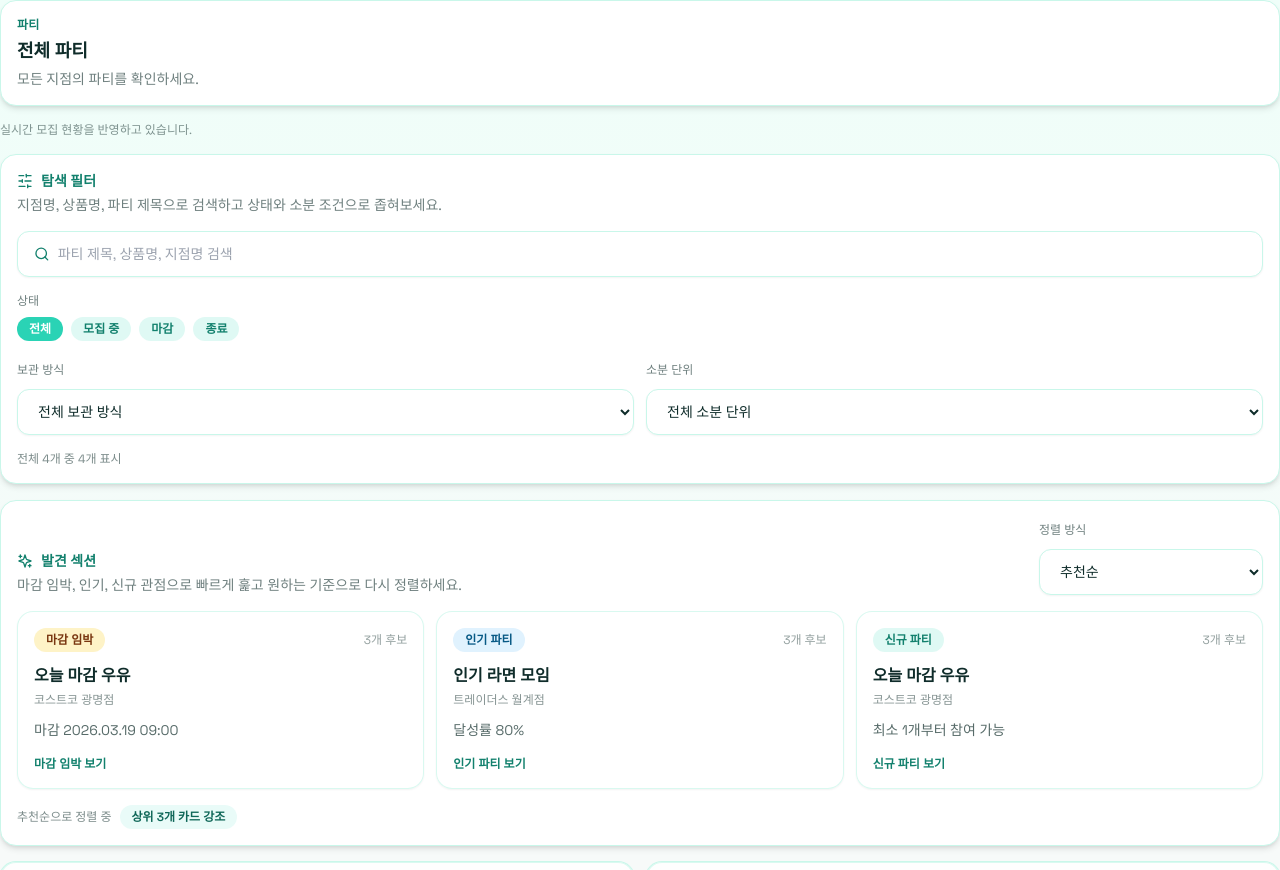
Test: PartyList filters › 발견_섹션에서_정렬을_바꾸면_상위_카드가_강조된다
Click the button "인기 파티" at [489, 640], box [436,611,844,789]
(page scrolled)
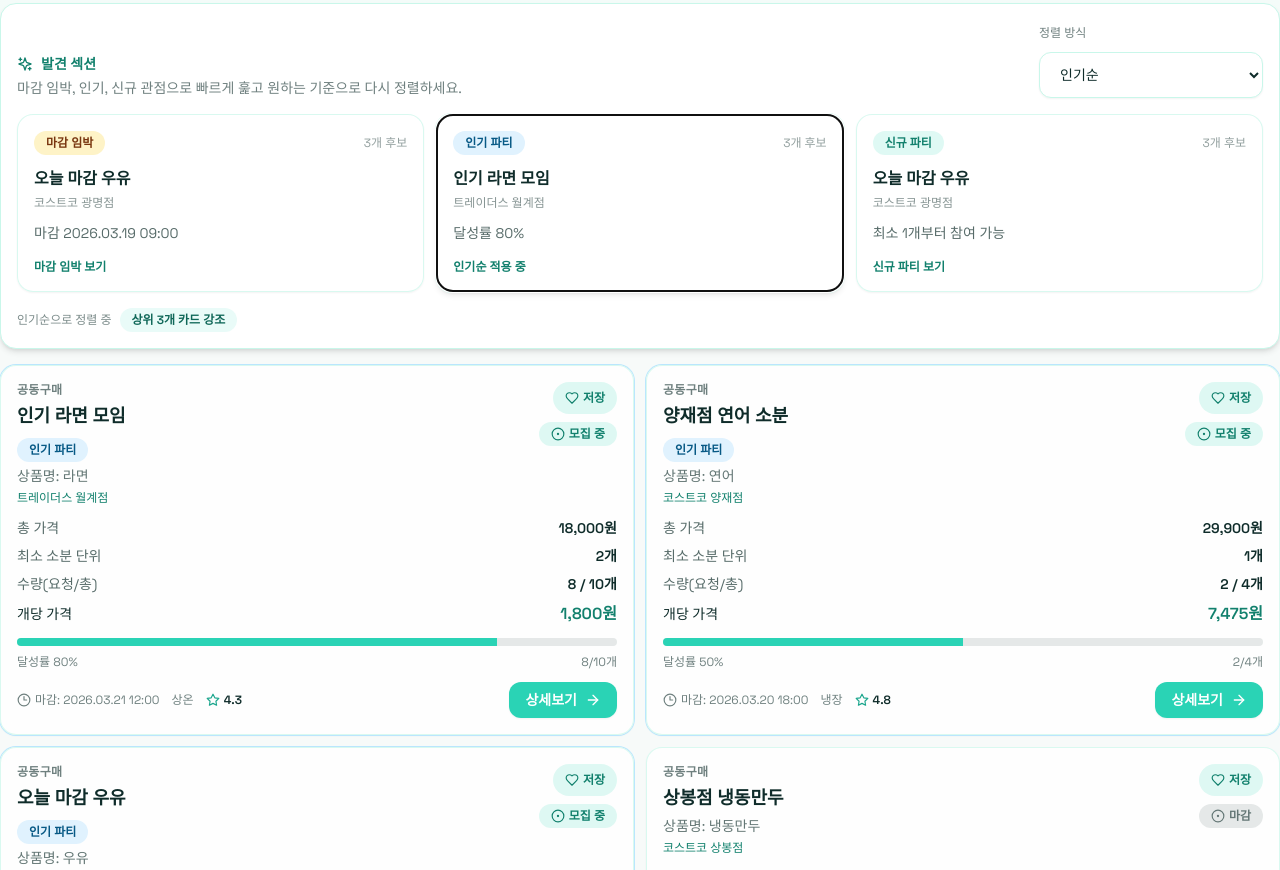
Expected: the heading "인기 라면 모임" is shown, [17,402,126,430]
Expected: the dropdown labelled "정렬 방식" shows "인기순", [1039,52,1263,98]
Expected: the 2nd text "인기 파티" is shown, [17,438,88,462]
